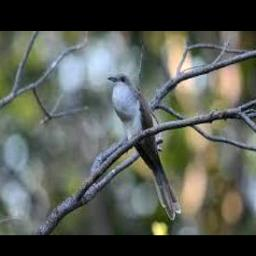Cuckoo: (106, 73, 181, 219)
